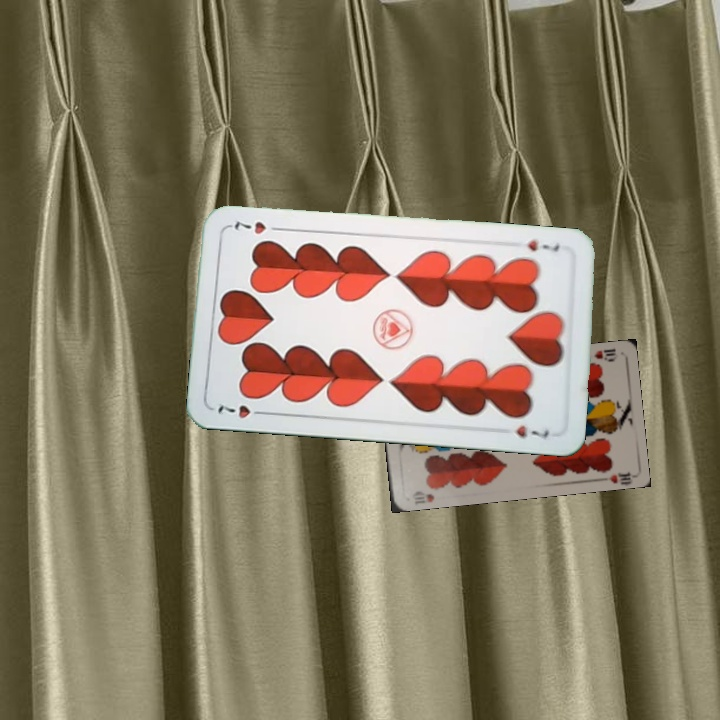H10: (590, 345, 620, 364), (408, 487, 437, 506)
H7: (213, 401, 270, 422), (523, 236, 562, 255)
